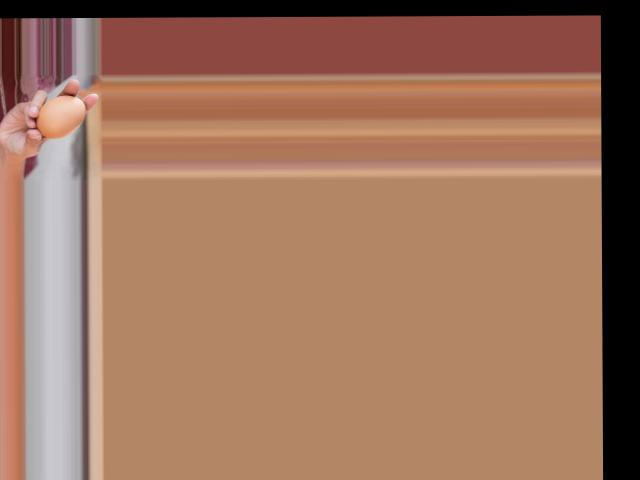egg: (36, 94, 85, 137)
